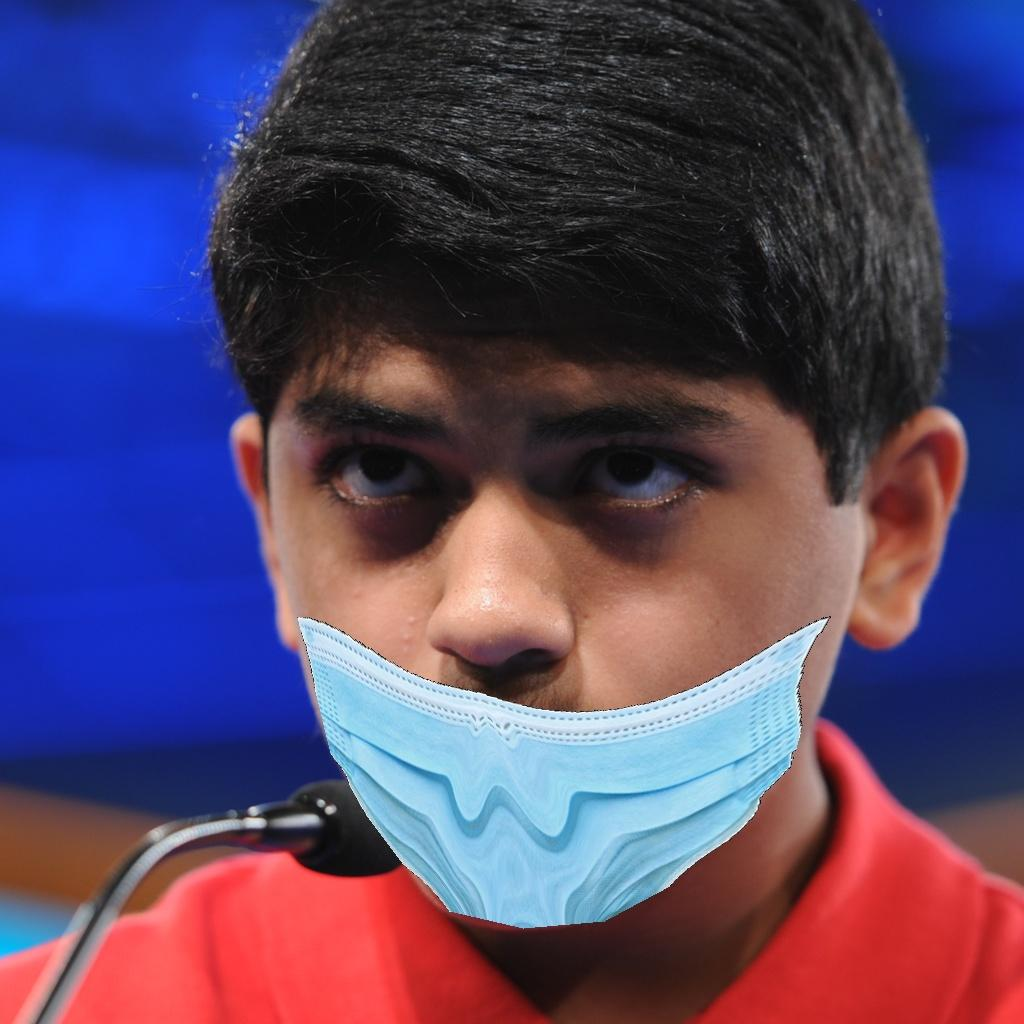Máscara Incorreta: (232, 267, 846, 942)
